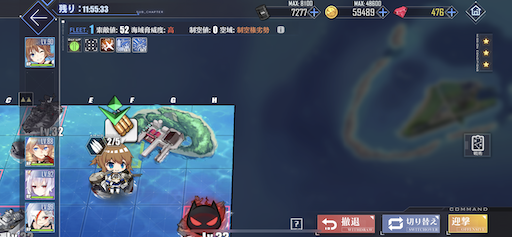boss: (180, 199, 231, 237)
lv2: (18, 91, 64, 133)
